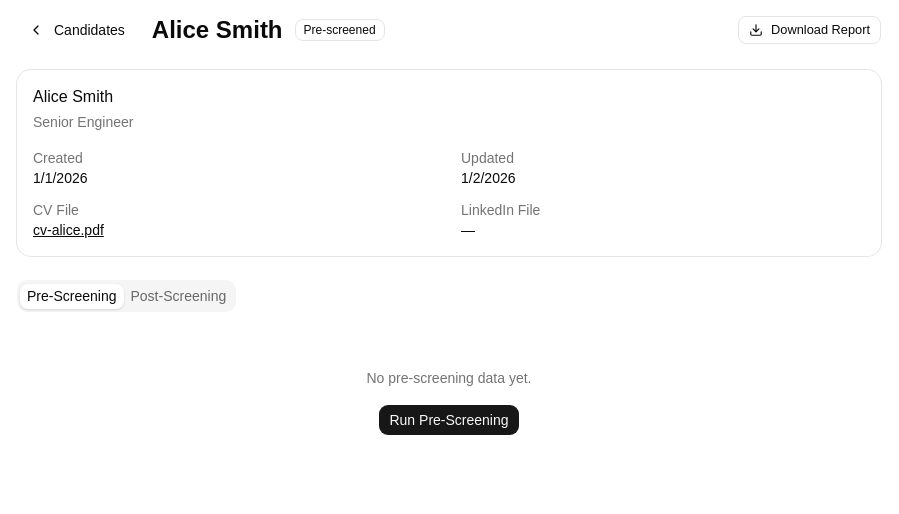
it: Download Report button › shows an error alert when downloadReport fails
The width and height of the screenshot is (899, 514).
Click the button "Download Report" at [810, 30], box 738,16 -> 881,44
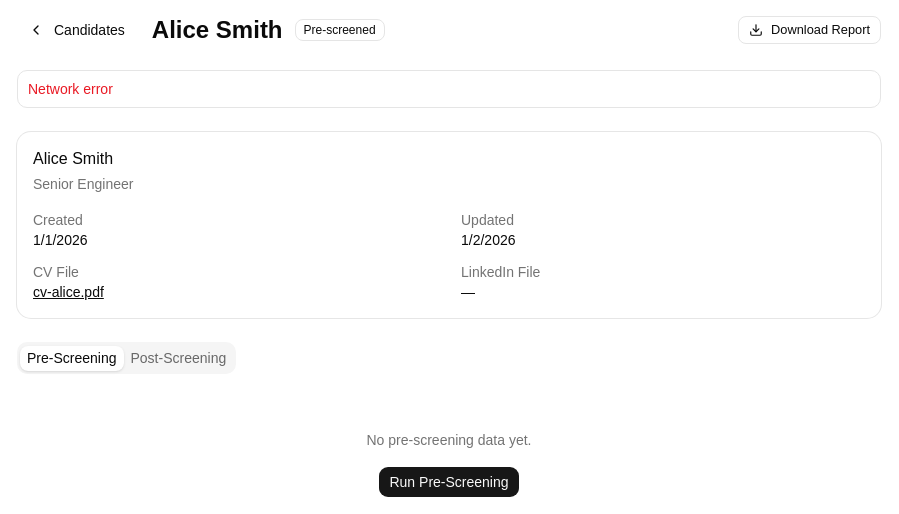
Now the message "Network error" is shown, box 17,70 -> 881,108
Now the text "Network error" is shown, box 28,81 -> 113,97
